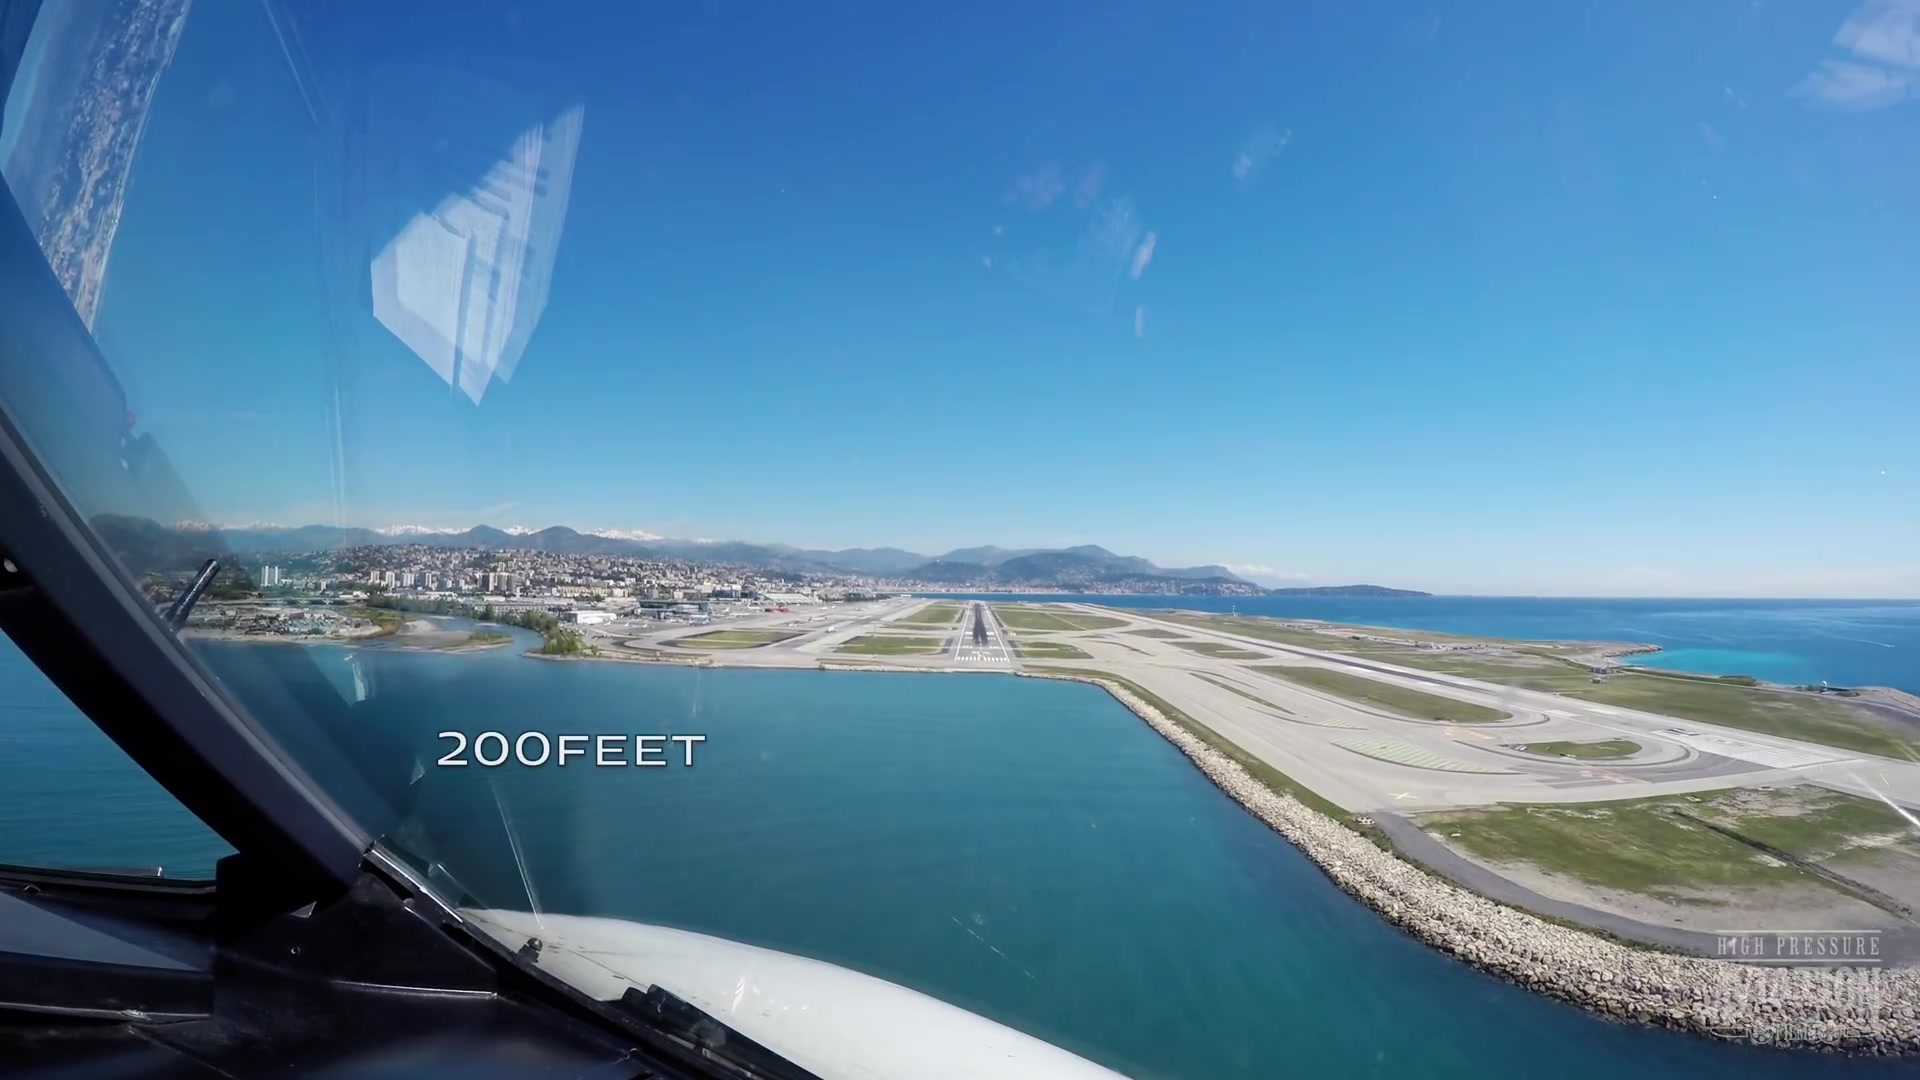entrance: (953, 654, 1011, 665)
runway: (949, 600, 1013, 669)
